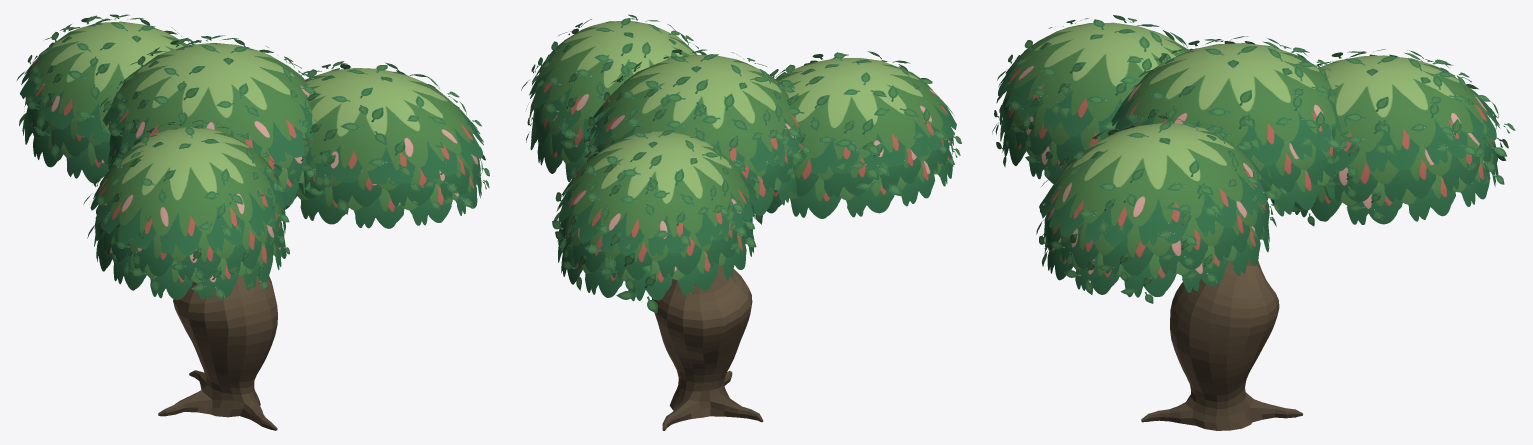
Rendered from FatThreeNormal.fbx.
The picture shows the model from 3 angles, left to right: view 1: azimuth 30°, elevation 25°; view 2: azimuth 150°, elevation 25°; view 3: azimuth 270°, elevation 25°; orthographic projection. The views are drawn at different scales.
Visible parts, largest first — view 1: FattenThreeNormal; view 2: FattenThreeNormal; view 3: FattenThreeNormal.
Boxes of the visible parts, x1=… form: FattenThreeNormal: x1=17, y1=14, x2=489, y2=430; FattenThreeNormal: x1=521, y1=14, x2=961, y2=430; FattenThreeNormal: x1=992, y1=15, x2=1515, y2=430.
Bounding box in the file's own units: 21.18 × 18.16 × 23.71.
Materials: 2 (2 with a texture image).
